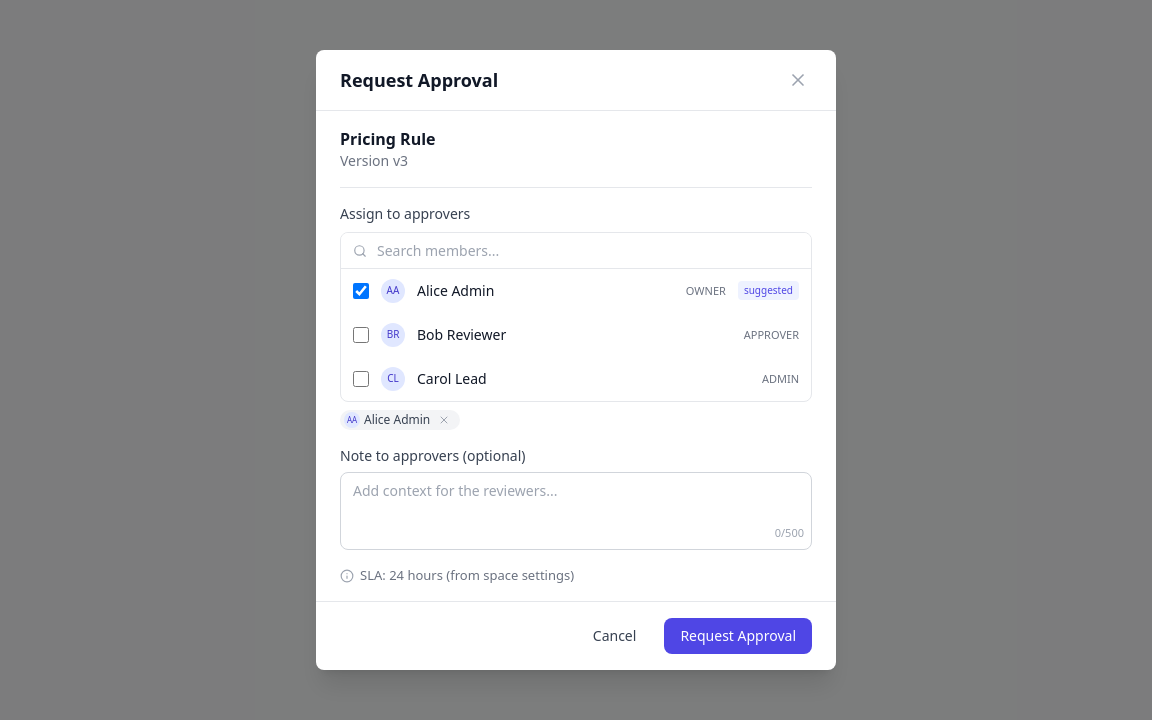
Scenario: RequestApprovalModal › filters approvers by search input
The image size is (1152, 720).
Type "Bob" into the field with placeholder "Search members..." at (576, 251), box x1=341 y1=233 x2=811 y2=269
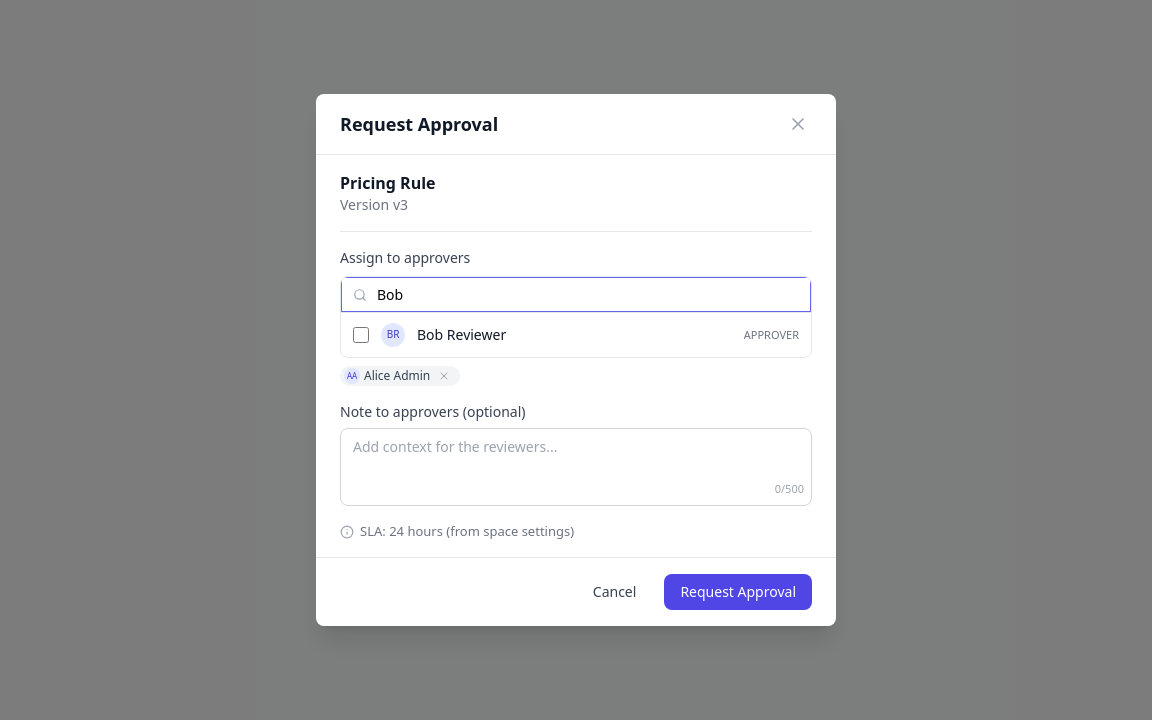
Expected: the text "Bob Reviewer" is shown, x1=417 y1=325 x2=506 y2=344
Expected: the text "Carol Lead" is gone
